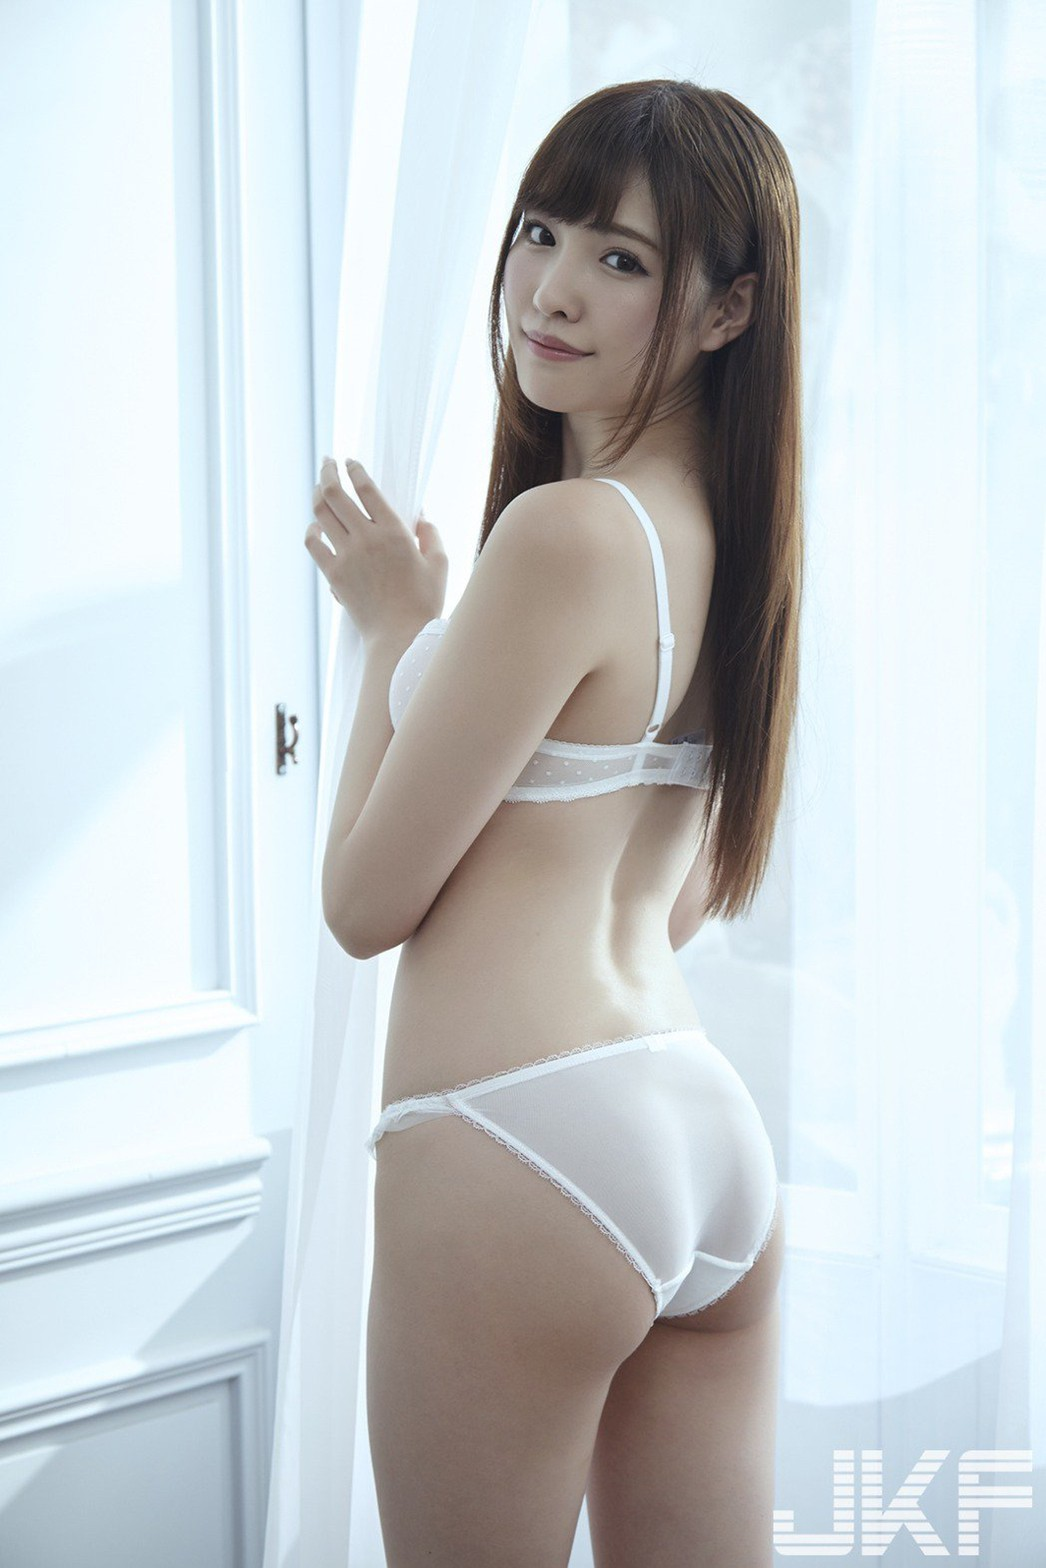people: (322, 75, 822, 1560)
